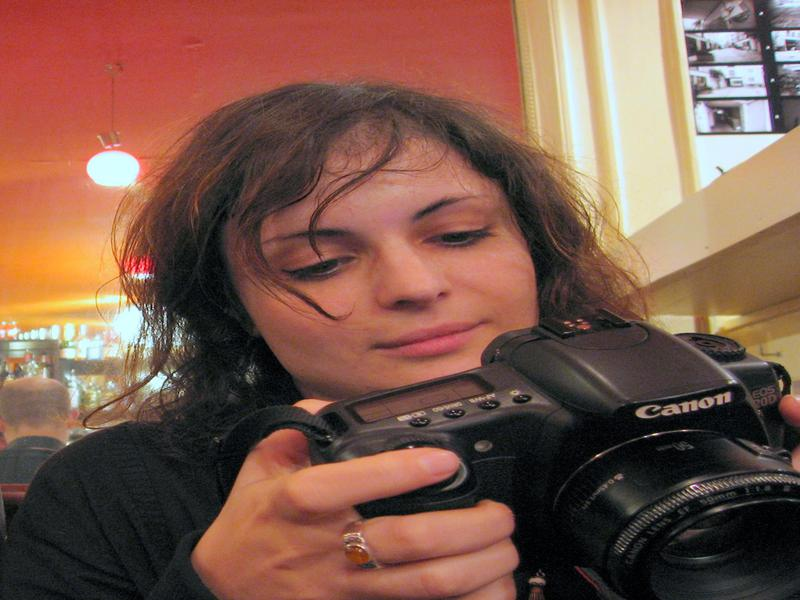person: (9, 82, 791, 600)
